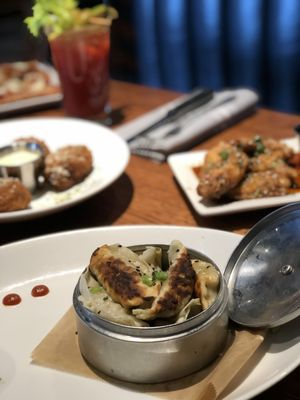pizza: (47, 23, 112, 118)
sandwich: (124, 88, 213, 143)
sushi: (72, 235, 231, 384), (223, 201, 300, 330)
